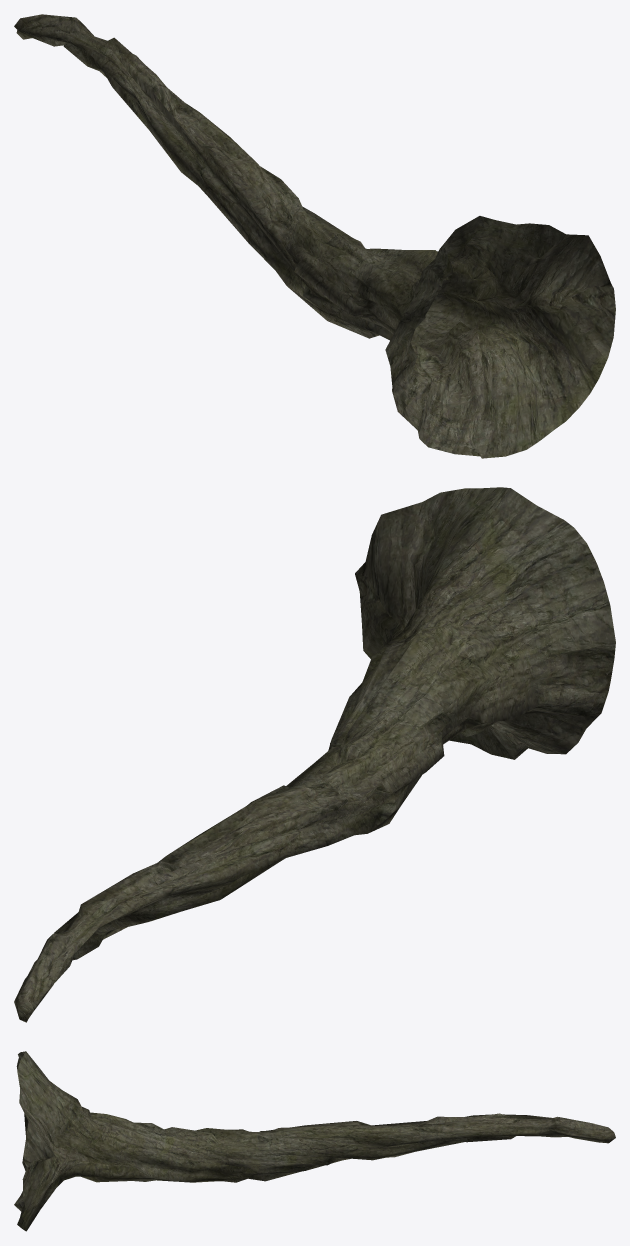
Rendered from TI_OldTree_01.fbx.
3 views of the same model, one above another, from view 1: azimuth 30°, elevation 25°; view 2: azimuth 150°, elevation 25°; view 3: azimuth 270°, elevation 25° (orthographic). The views are drawn at different scales.
Visible parts, largest first — view 1: TI_Old_Tree_01; view 2: TI_Old_Tree_01; view 3: TI_Old_Tree_01.
Part boxes in pixels (x1,y1,x2,y2): TI_Old_Tree_01: (14,14,615,458); TI_Old_Tree_01: (14,487,615,1022); TI_Old_Tree_01: (14,1051,615,1231).
Size of the model in its own units: 3.22 by 3.26 by 11.08.
